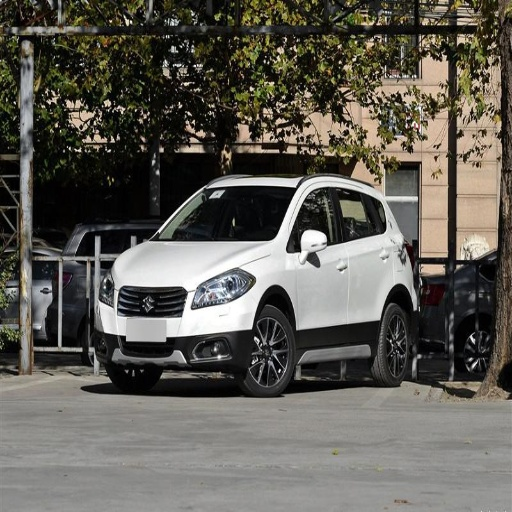front_bumper: (85, 270, 260, 373)
front_glass: (153, 186, 294, 240)
front_left_door: (289, 183, 349, 348)
